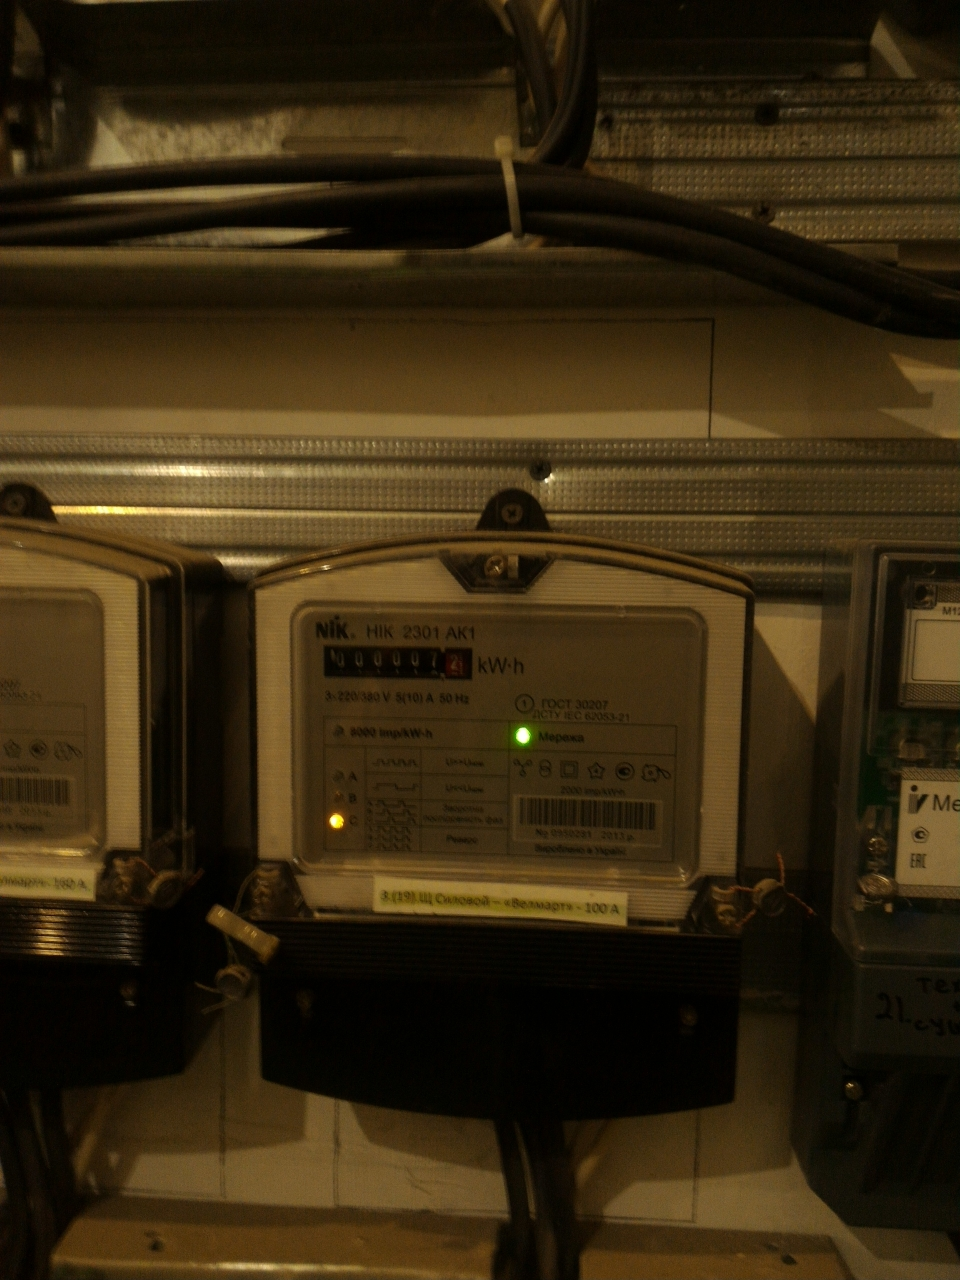0: (391, 649, 402, 667), (335, 650, 346, 667), (354, 650, 364, 668), (409, 649, 419, 667), (373, 650, 383, 667)
2: (449, 653, 460, 670)
7: (428, 650, 438, 668)
screen: (317, 640, 480, 686)
